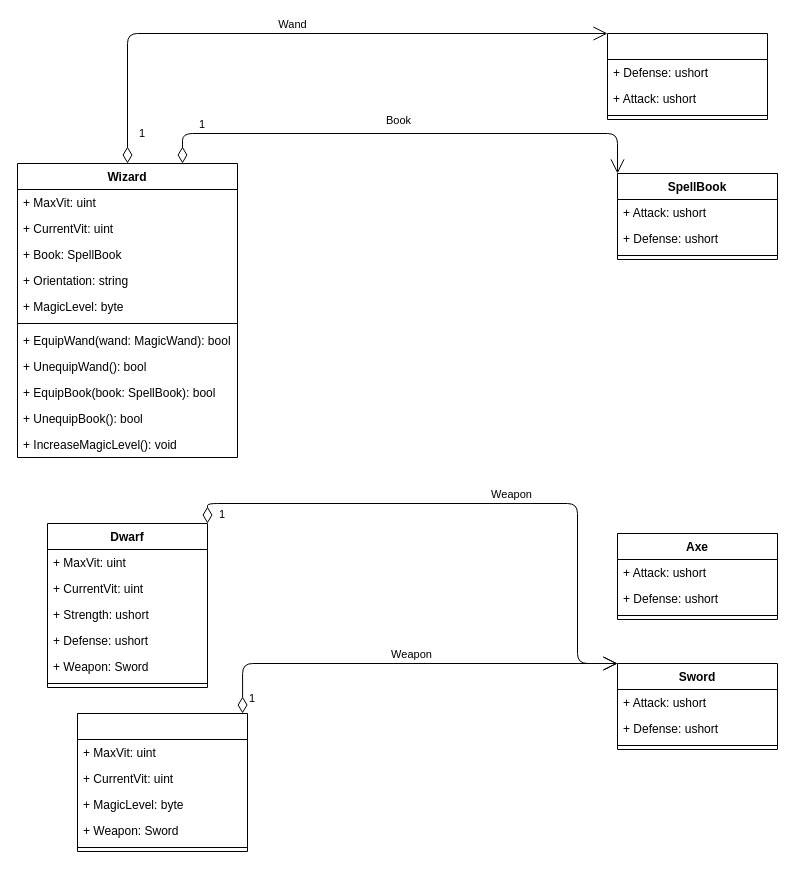
Image size: 795x869. Some labels were removed from this diagram. The shapes that lost their labels are listed below. From the top down, each one's box as (x1, y1, x2, y2) in pixels, then its label:
(606, 32, 768, 120): MagicWand
(76, 712, 248, 852): Elf
